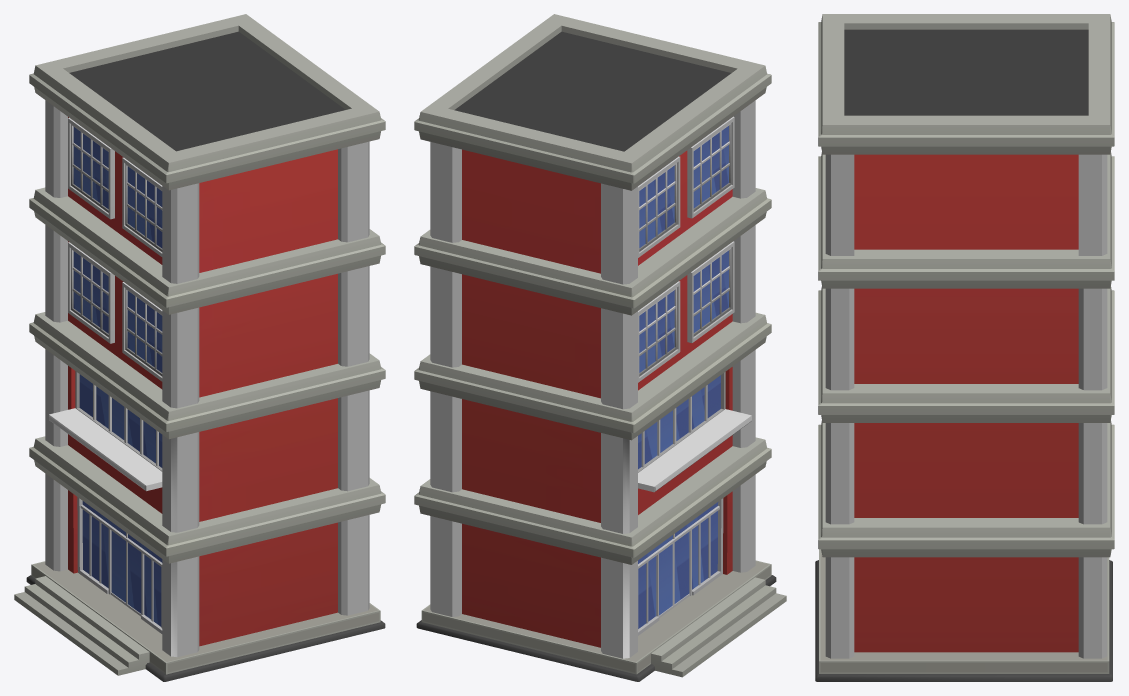
Rendered from Building_9_1_B.fbx.
3 renders of one model, left to right at view 1: azimuth 30°, elevation 25°; view 2: azimuth 150°, elevation 25°; view 3: azimuth 270°, elevation 25°, orthographic. The views are drawn at different scales.
Visible parts, largest first — view 1: Building_9_1_B; view 2: Building_9_1_B; view 3: Building_9_1_B.
Boxes of the visible parts, box(x1,y1,x2,y2) form: Building_9_1_B: box(14, 14, 385, 681); Building_9_1_B: box(414, 14, 786, 681); Building_9_1_B: box(815, 14, 1114, 681).
Bounding box in the file's own units: 947 × 1855 × 906.
